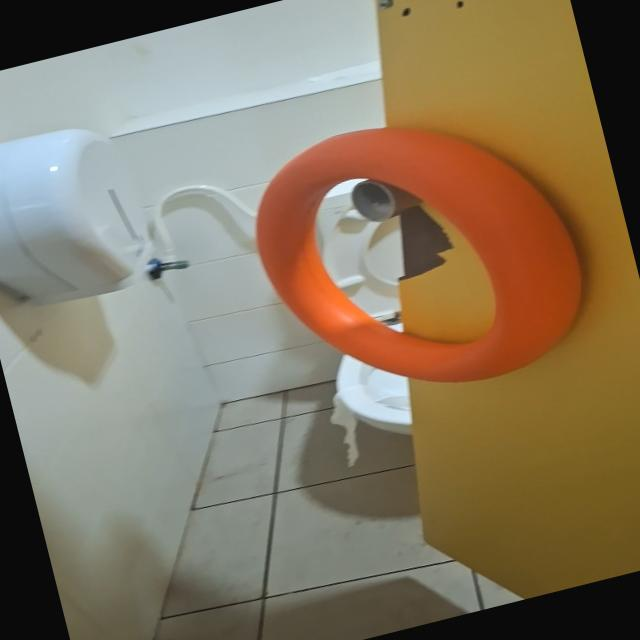note: (232, 82, 603, 426)
